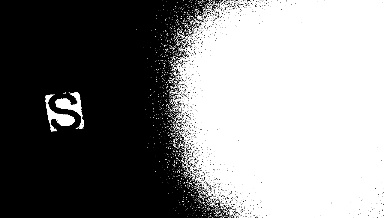S: (43, 91, 85, 130)
